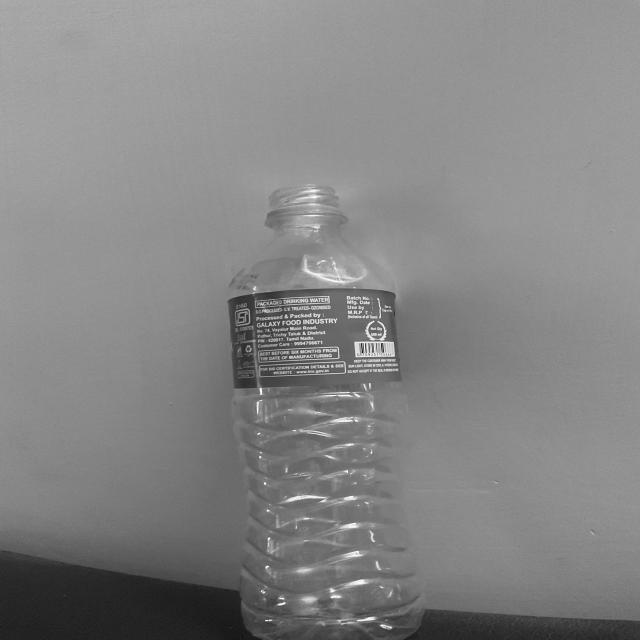open-cap: (266, 181, 348, 221)
